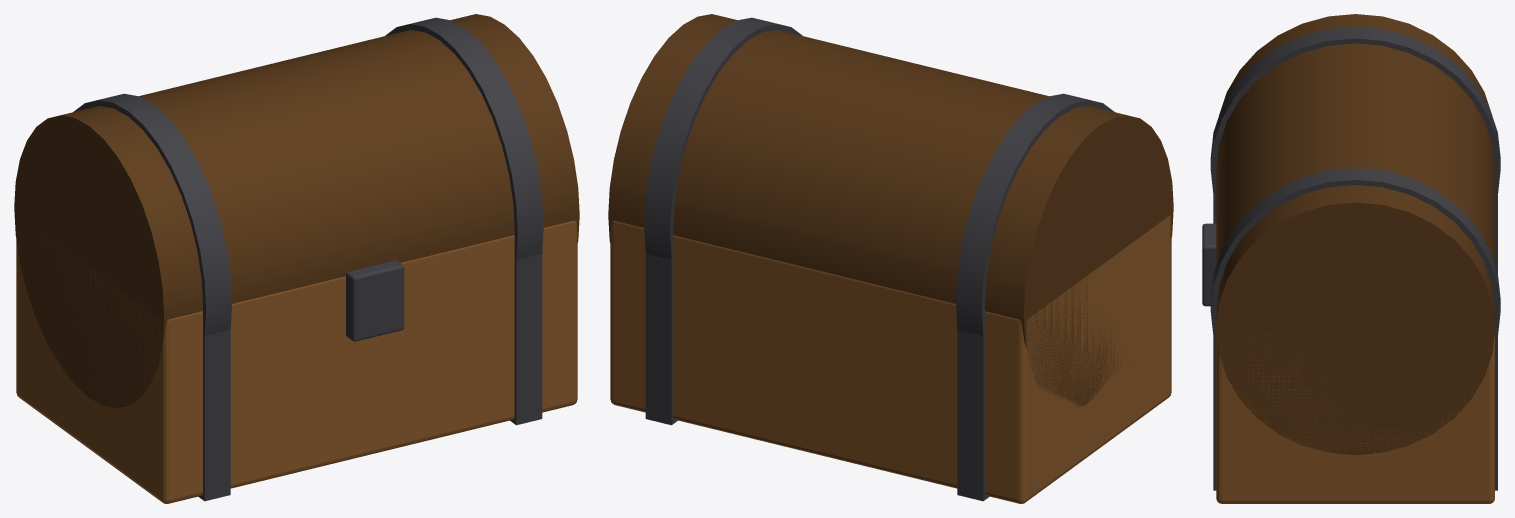
File: gen_treasure_chest.glb
3 renders of one model, left to right at view 1: azimuth 30°, elevation 25°; view 2: azimuth 150°, elevation 25°; view 3: azimuth 270°, elevation 25°, orthographic. The views are drawn at different scales.
Parts seen in each view (by area): view 1: chest_lid, gen_treasure_chest; view 2: chest_lid, gen_treasure_chest; view 3: chest_lid, gen_treasure_chest.
Part boxes in pixels (left/top/right/bottom): chest_lid: left=14, top=14, right=579, bottom=408; gen_treasure_chest: left=16, top=220, right=577, bottom=503; chest_lid: left=608, top=14, right=1173, bottom=406; gen_treasure_chest: left=610, top=215, right=1171, bottom=503; chest_lid: left=1210, top=14, right=1500, bottom=455; gen_treasure_chest: left=1202, top=167, right=1497, bottom=503.
Size of the model in its own units: 0.8 by 0.615 by 0.535.
1 material, 1 textured.
